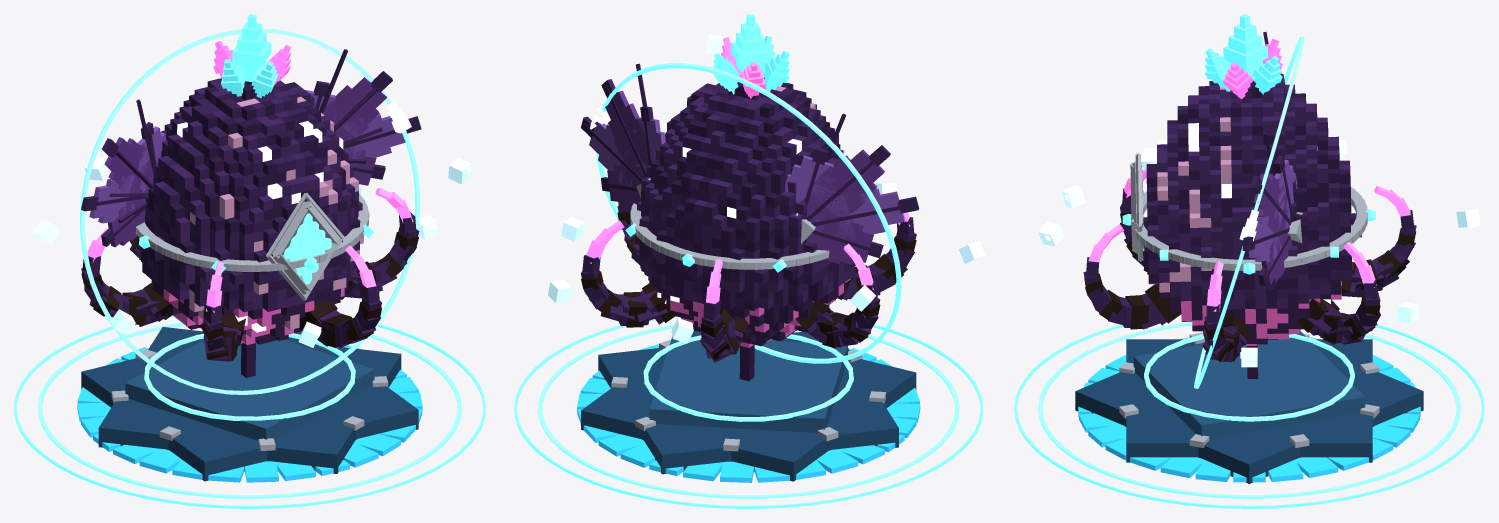
Rendered from egg_mitico_kraken.glb.
The picture shows the model from 3 angles, left to right: view 1: azimuth 30°, elevation 25°; view 2: azimuth 150°, elevation 25°; view 3: azimuth 270°, elevation 25°; orthographic projection.
Visible parts, largest first — view 1: root_geo, shell_geo, egg_geo, floor_rings_geo, wing_L_geo, wing_R_geo, orbit1_geo, emblem_geo, crown_geo; view 2: root_geo, shell_geo, egg_geo, wing_R_geo, floor_rings_geo, wing_L_geo, orbit1_geo, crown_geo; view 3: root_geo, shell_geo, egg_geo, floor_rings_geo, wing_L_geo, crown_geo, orbit1_geo, emblem_geo.
Part boxes in pixels (x1,y1,x2,y2): root_geo: [77, 327, 422, 482]; shell_geo: [137, 78, 363, 377]; egg_geo: [81, 187, 419, 361]; floor_rings_geo: [14, 315, 485, 508]; wing_L_geo: [305, 49, 421, 185]; wing_R_geo: [81, 99, 166, 247]; orbit1_geo: [80, 28, 419, 394]; emblem_geo: [266, 192, 344, 300]; crown_geo: [213, 14, 291, 98]; root_geo: [577, 330, 920, 482]; shell_geo: [635, 77, 855, 381]; egg_geo: [581, 192, 916, 362]; wing_R_geo: [785, 113, 919, 264]; floor_rings_geo: [514, 316, 983, 508]; wing_L_geo: [581, 63, 665, 212]; orbit1_geo: [590, 63, 901, 363]; crown_geo: [712, 14, 789, 98]; root_geo: [1075, 330, 1423, 483]; shell_geo: [1143, 79, 1361, 378]; egg_geo: [1083, 169, 1416, 362]; floor_rings_geo: [1014, 314, 1484, 508]; wing_L_geo: [1242, 132, 1302, 285]; crown_geo: [1204, 14, 1282, 99]; orbit1_geo: [1194, 36, 1304, 388]; emblem_geo: [1130, 153, 1144, 261].
Size of the model in its own units: 8.79 by 8.14 by 8.79.
